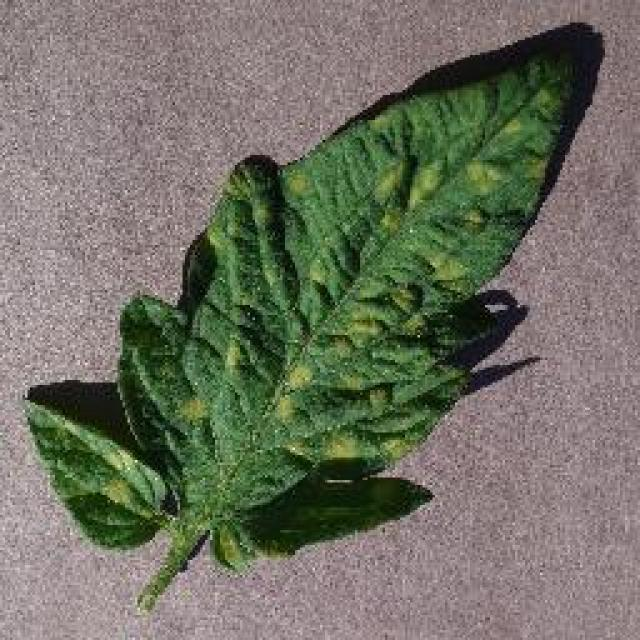Tomato___Leaf_Mold: (28, 42, 575, 608)
